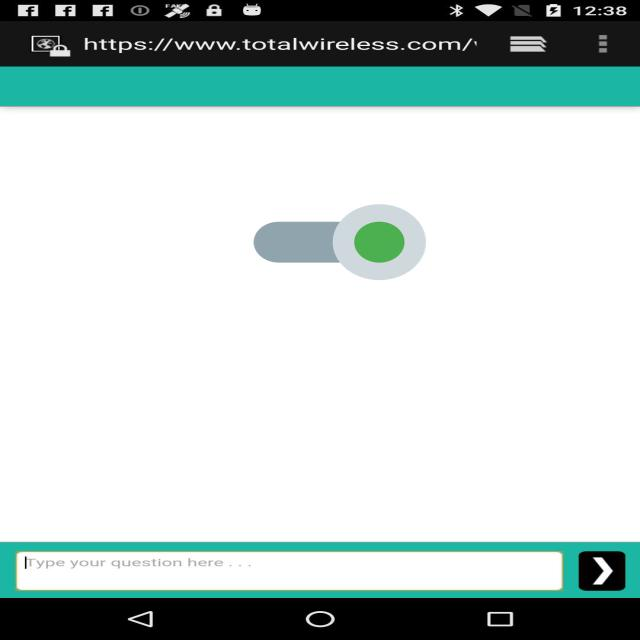social proof: (254, 172, 426, 312)
